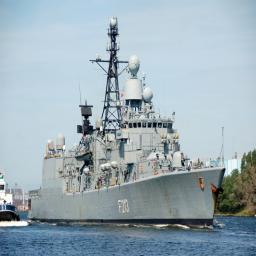Fragata: (27, 16, 229, 230)
